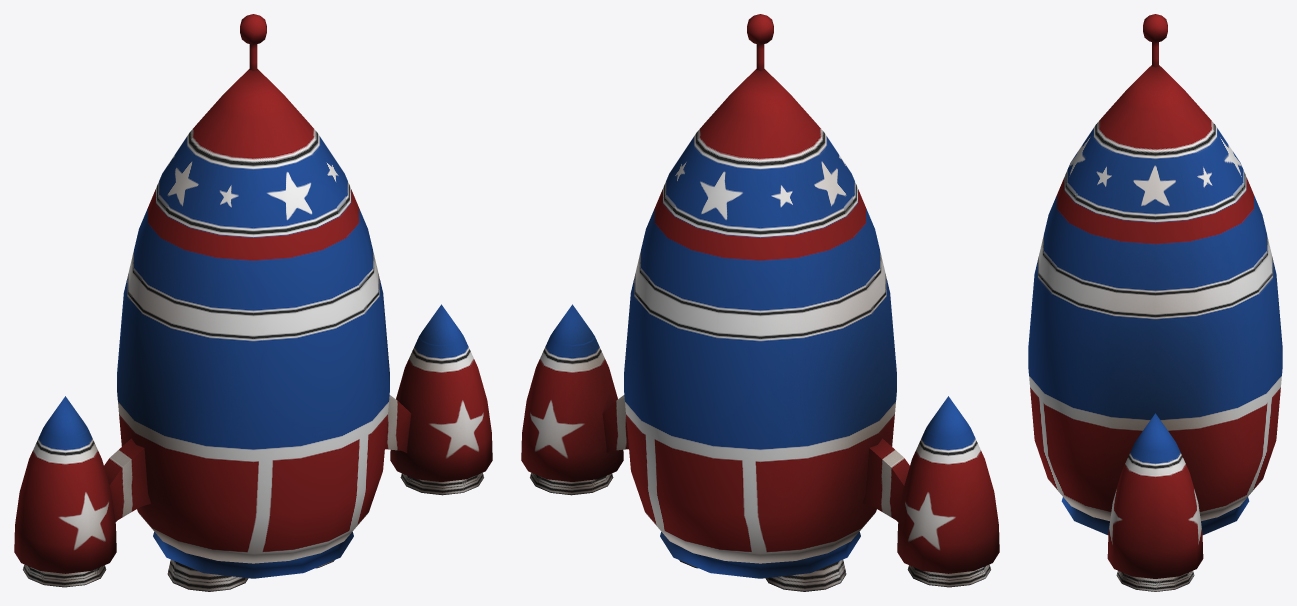
The picture shows the model from 3 angles, left to right: view 1: azimuth 30°, elevation 25°; view 2: azimuth 150°, elevation 25°; view 3: azimuth 270°, elevation 25°; orthographic projection. The views are drawn at different scales.
Parts seen in each view (by area): view 1: S011; view 2: S011; view 3: S011.
Part boxes in pixels (x1,y1,x2,y2): S011: [14, 14, 492, 591]; S011: [521, 14, 999, 591]; S011: [1028, 14, 1282, 591].
Size of the model in its own units: 52.67 by 59.36 by 26.77.
1 material, 1 textured.
